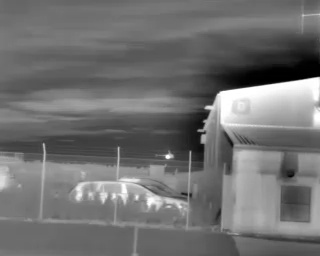HELICOPTER: (151, 148, 177, 163)
